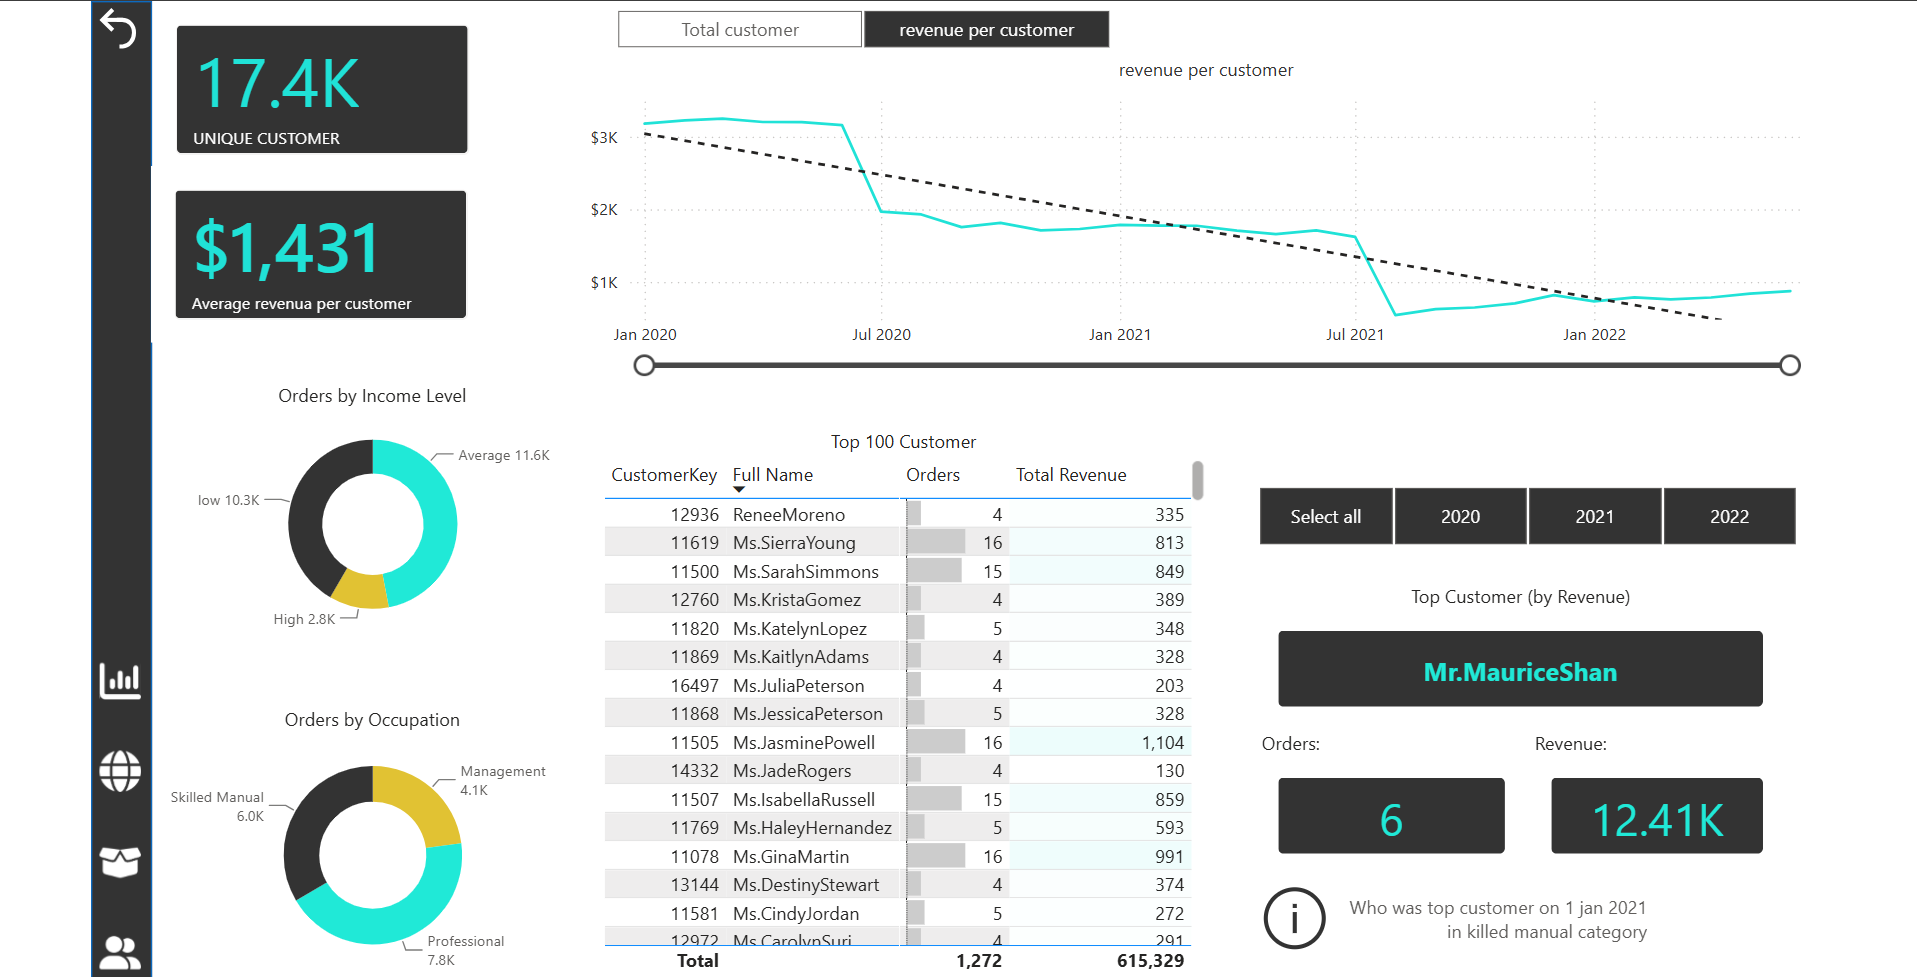

The dashboard page shown, as its layout file describes it:
{"tool":"powerbi","page":{"name":"Customer detail","canvas":[1280,720],"ordinal":3},"visuals":[{"type":"shape","box":[0,0,45,720],"z":0},{"type":"cardVisual","fields":{"Data":["Measure Table.Total customer"]},"box":[45,0,250,130],"z":1000},{"type":"actionButton","box":[2.4,548.1,44.3,38.6],"z":1000,"group":"g1"},{"type":"cardVisual","fields":{"Data":["Measure Table.Average revenua per customer"]},"box":[44.3,121.4,250,130],"z":2000},{"type":"actionButton","box":[2.4,681.4,44.3,38.6],"z":2000,"group":"g1"},{"type":"donutChart","title":"Orders by Income Level","fields":{"Series":["Customer Lookup.Income Level"],"Y":["Measure Table.Total Orders"]},"box":[51.5,280.9,310.6,190.7],"z":3000},{"type":"actionButton","box":[2.4,481.4,44.3,38.6],"z":3000,"group":"g1"},{"type":"donutChart","title":"Orders by Occupation","fields":{"Series":["Customer Lookup.Occupation"],"Y":["Measure Table.Total Orders"]},"box":[51.5,519.3,310.6,201],"z":4000},{"type":"actionButton","box":[2.4,614.7,44.3,38.6],"z":4000,"group":"g1"},{"type":"tableEx","title":"Top 100 Customer ","fields":{"Values":["Customer Lookup.CustomerKey","Customer Lookup.Full Name","Measure Table.Total Orders","Measure Table.Total Revenue"]},"box":[372.4,314.4,452.3,405.9],"z":5000},{"type":"cardVisual","title":"Top Customer (by Revenue)","fields":{"Data":["Measure Table.Full Name (Customer Details)"]},"box":[856.6,428.4,391.4,108.6],"z":6000},{"type":"cardVisual","title":"Orders:","fields":{"Data":["Measure Table.Total Orders (Customer Details)"]},"box":[856.6,537,201.4,108.6],"z":7000},{"type":"cardVisual","title":"Revenue:","fields":{"Data":["Measure Table.Total Revenue (Customer Details)"]},"box":[1058,536.5,190,108.6],"z":8000},{"type":"slicer","fields":{"Values":["Calendar Lookup.Year"]},"box":[835.2,351.3,444.3,55.7],"z":9000},{"type":"lineChart","fields":{"Category":["Calendar Lookup.Date Hierarchy.Start of Year","Calendar Lookup.Date Hierarchy.Start of Month","Calendar Lookup.Date Hierarchy.Start of Week","Calendar Lookup.Date Hierarchy.Date"],"Y":["Measure Table.Average revenua per customer"]},"box":[362.1,41,917.5,238.4],"z":10000},{"type":"actionButton","box":[0,0,44.3,40],"z":11000},{"type":"actionButton","box":[856.6,645.6,292.9,58.6],"z":12000},{"type":"group","id":"g1","title":"Navigataion Buttons","box":[2.4,481.4,44.3,238.6],"z":13000},{"type":"slicer","fields":{"Values":["Customer metric Selection.Customer metric Selection"]},"box":[362.3,0,411.1,41],"z":14000}]}

Visuals, with their boxes on the page's 1280x720 design canvas (x1, y1, x2, y2). These are canvas units, not pixel positions in the 1917x977 screenshot, which may show the page scaled, cropped or inside an application window:
shape: crop(0, 0, 45, 720)
cardVisual - Measure Table.Total customer: crop(45, 0, 295, 130)
actionButton: crop(2, 548, 47, 587)
cardVisual - Measure Table.Average revenua per customer: crop(44, 121, 294, 251)
actionButton: crop(2, 681, 47, 720)
"Orders by Income Level" donutChart: crop(52, 281, 362, 472)
actionButton: crop(2, 481, 47, 520)
"Orders by Occupation" donutChart: crop(52, 519, 362, 720)
actionButton: crop(2, 615, 47, 653)
"Top 100 Customer " tableEx: crop(372, 314, 825, 720)
"Top Customer (by Revenue)" cardVisual: crop(857, 428, 1248, 537)
"Orders:" cardVisual: crop(857, 537, 1058, 646)
"Revenue:" cardVisual: crop(1058, 536, 1248, 645)
slicer - Calendar Lookup.Year: crop(835, 351, 1280, 407)
lineChart - Calendar Lookup.Date Hierarchy.Start of Year x Calendar Lookup.Date Hierarchy.Start of Month: crop(362, 41, 1280, 279)
actionButton: crop(0, 0, 44, 40)
actionButton: crop(857, 646, 1150, 704)
"Navigataion Buttons" group: crop(2, 481, 47, 720)
slicer - Customer metric Selection.Customer metric Selection: crop(362, 0, 773, 41)
